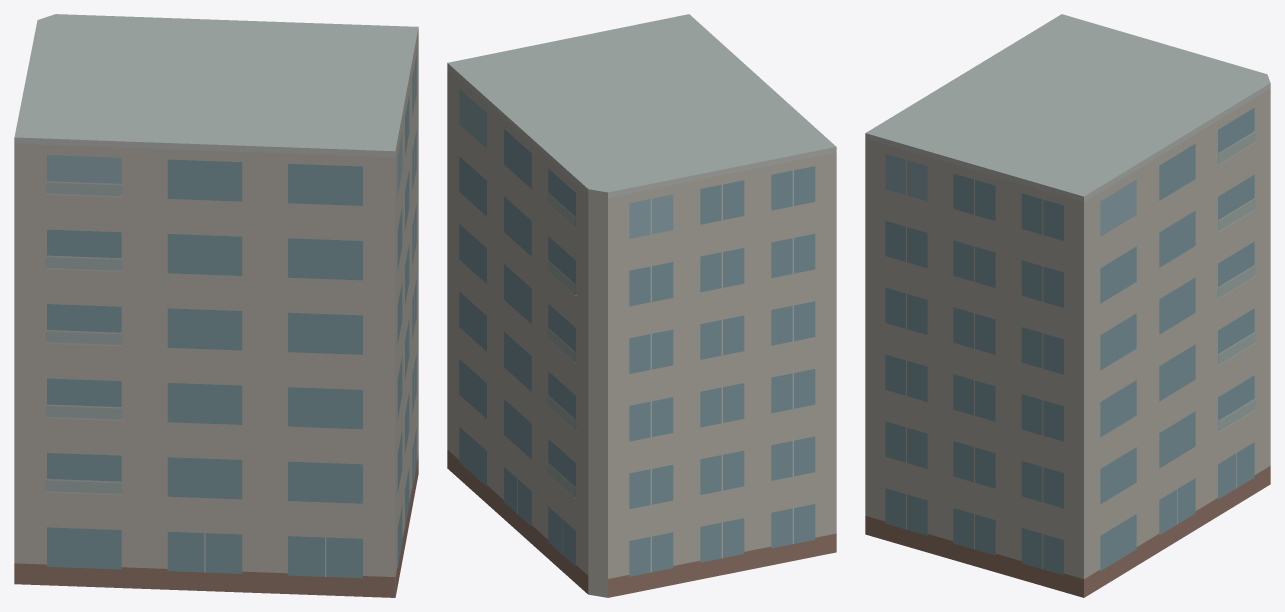
The model's file is survey-upis-32707465.glb.
The picture shows the model from 3 angles, left to right: view 1: azimuth 30°, elevation 25°; view 2: azimuth 150°, elevation 25°; view 3: azimuth 270°, elevation 25°; orthographic projection. The views are drawn at different scales.
Parts seen in each view (by area): view 1: survey-upis-32707465.tmp; view 2: survey-upis-32707465.tmp; view 3: survey-upis-32707465.tmp.
Part boxes in pixels (left/top/right/bottom): survey-upis-32707465.tmp: left=14, top=14, right=418, bottom=597; survey-upis-32707465.tmp: left=447, top=14, right=836, bottom=597; survey-upis-32707465.tmp: left=865, top=14, right=1270, bottom=597.
Size of the model in its own units: 17.57 by 18 by 16.48.
